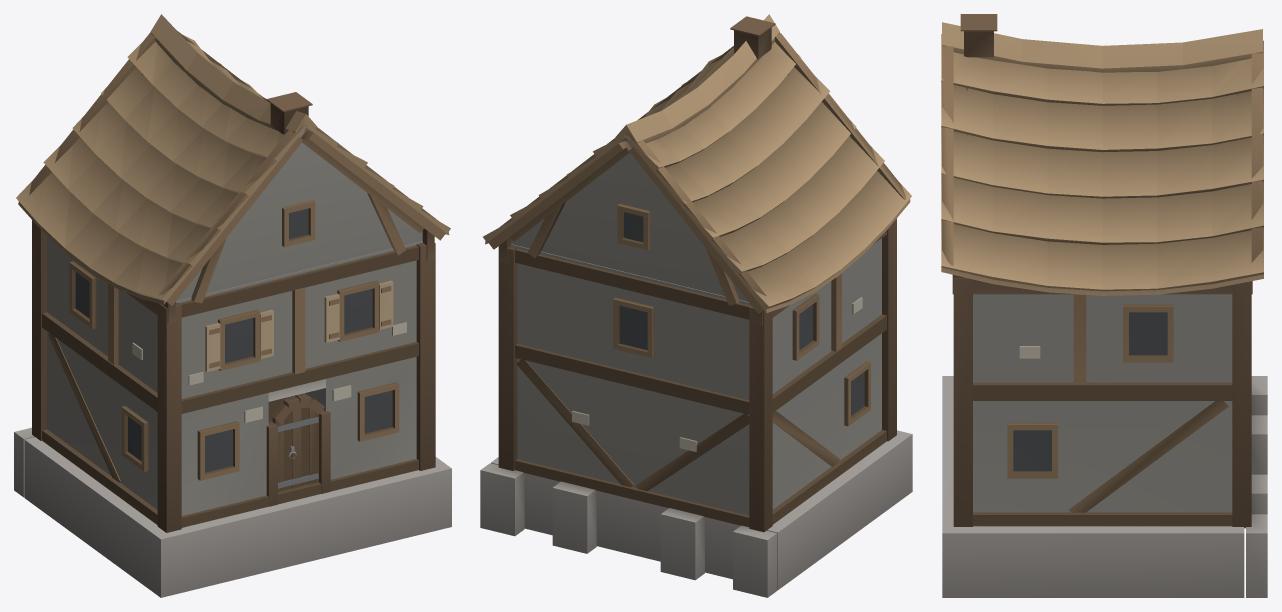
Rendered from tavern.glb.
3 renders of one model, left to right at view 1: azimuth 30°, elevation 25°; view 2: azimuth 150°, elevation 25°; view 3: azimuth 270°, elevation 25°, orthographic. The views are drawn at different scales.
Visible parts, largest first — view 1: tavern; view 2: tavern; view 3: tavern.
Part boxes in pixels (x1,y1,x2,y2): tavern: [14, 14, 451, 597]; tavern: [480, 14, 912, 597]; tavern: [941, 14, 1267, 597].
Size of the model in its own units: 7.99 by 11.74 by 6.98.
